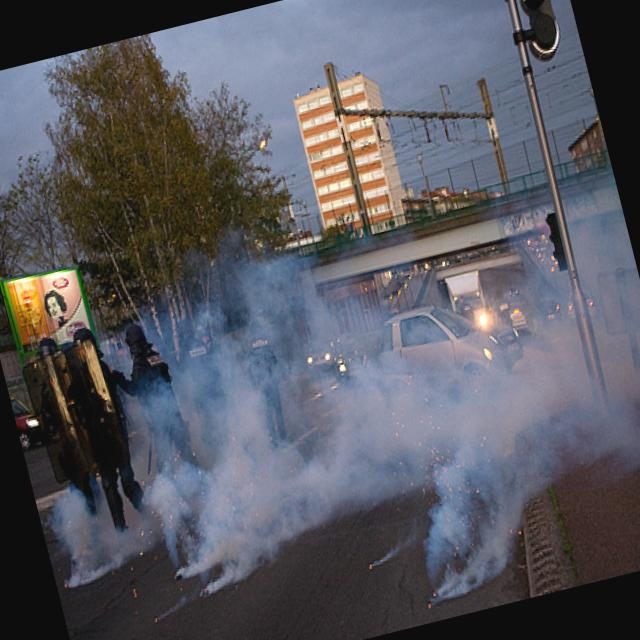Vehicle: (368, 284, 530, 402), (328, 329, 383, 387), (446, 272, 494, 336), (8, 383, 46, 450), (303, 342, 335, 374)
